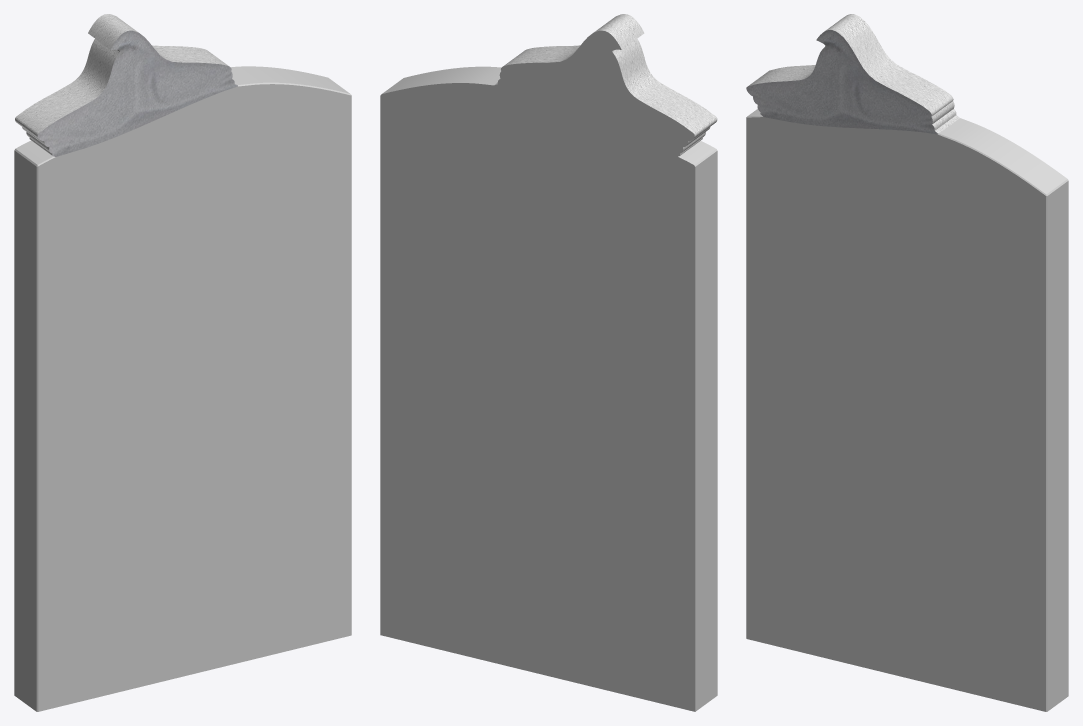
The model's file is cn4ba1df2501_tkf.glb.
The picture shows the model from 3 angles, left to right: view 1: azimuth 30°, elevation 25°; view 2: azimuth 150°, elevation 25°; view 3: azimuth 330°, elevation 25°; orthographic projection. The views are drawn at different scales.
Parts seen in each view (by area): view 1: Pam-v-202, Pam-v-202_2_notexture; view 2: Pam-v-202, Pam-v-202_2_notexture; view 3: Pam-v-202, Pam-v-202_2_notexture.
Part boxes in pixels (bbox=[...]): Pam-v-202: bbox=[14, 66, 351, 711]; Pam-v-202_2_notexture: bbox=[15, 14, 237, 156]; Pam-v-202: bbox=[380, 30, 717, 711]; Pam-v-202_2_notexture: bbox=[494, 14, 717, 155]; Pam-v-202: bbox=[746, 109, 1068, 711]; Pam-v-202_2_notexture: bbox=[746, 14, 959, 134].
Bounding box in the file's own units: 0.4 × 0.8 × 0.05.
1 material, 1 textured.
